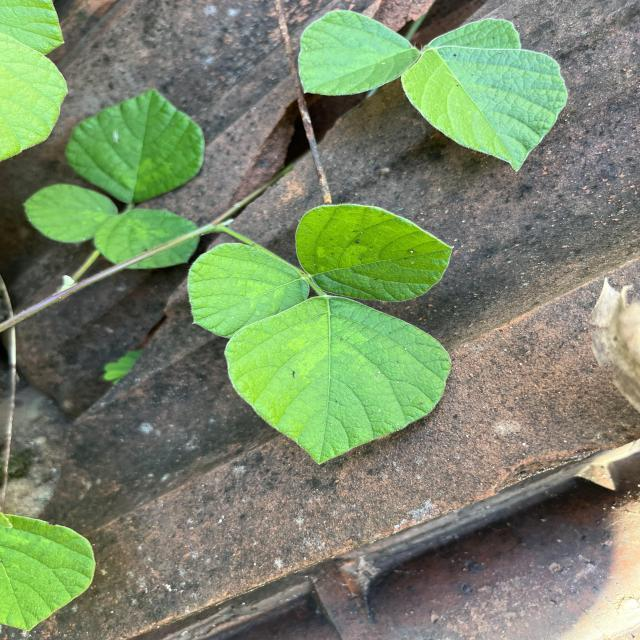Pseudarthria viscida: (185, 200, 458, 468), (21, 87, 210, 270)
